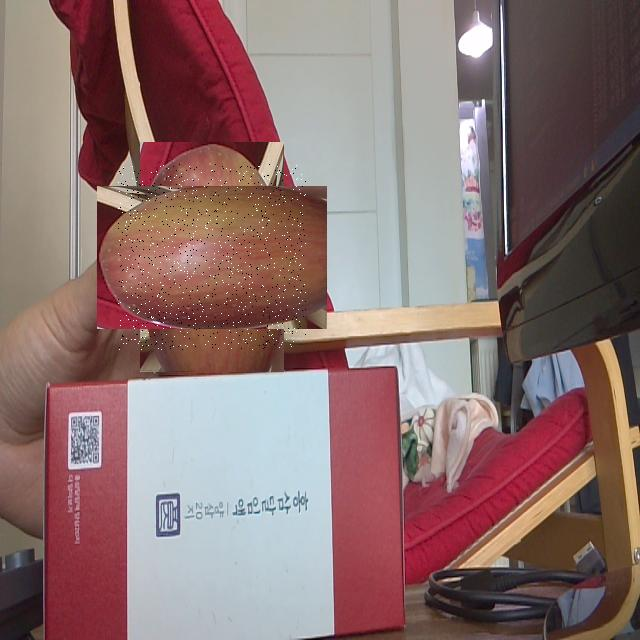apple: (118, 164, 306, 350)
